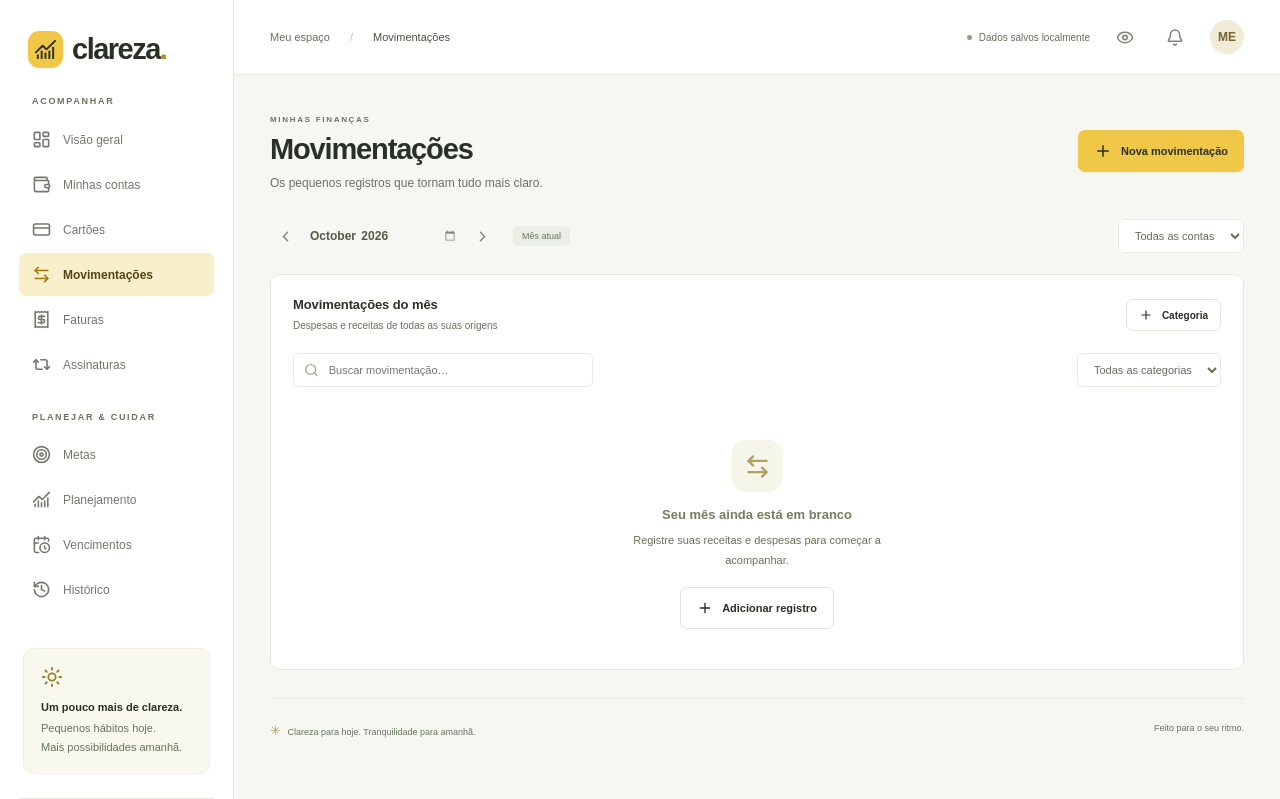
Test case: Fluxos principais › seleciona e confirma data no formulário de movimentação sem salvar ou fechar o diálogo
This screenshot has width=1280, height=799.
Check: the heading "Movimentações do mês" is shown, box [293,297,438,312]
Click the button "Nova movimentação": {"x": 1161, "y": 151} [1078,130,1244,172]
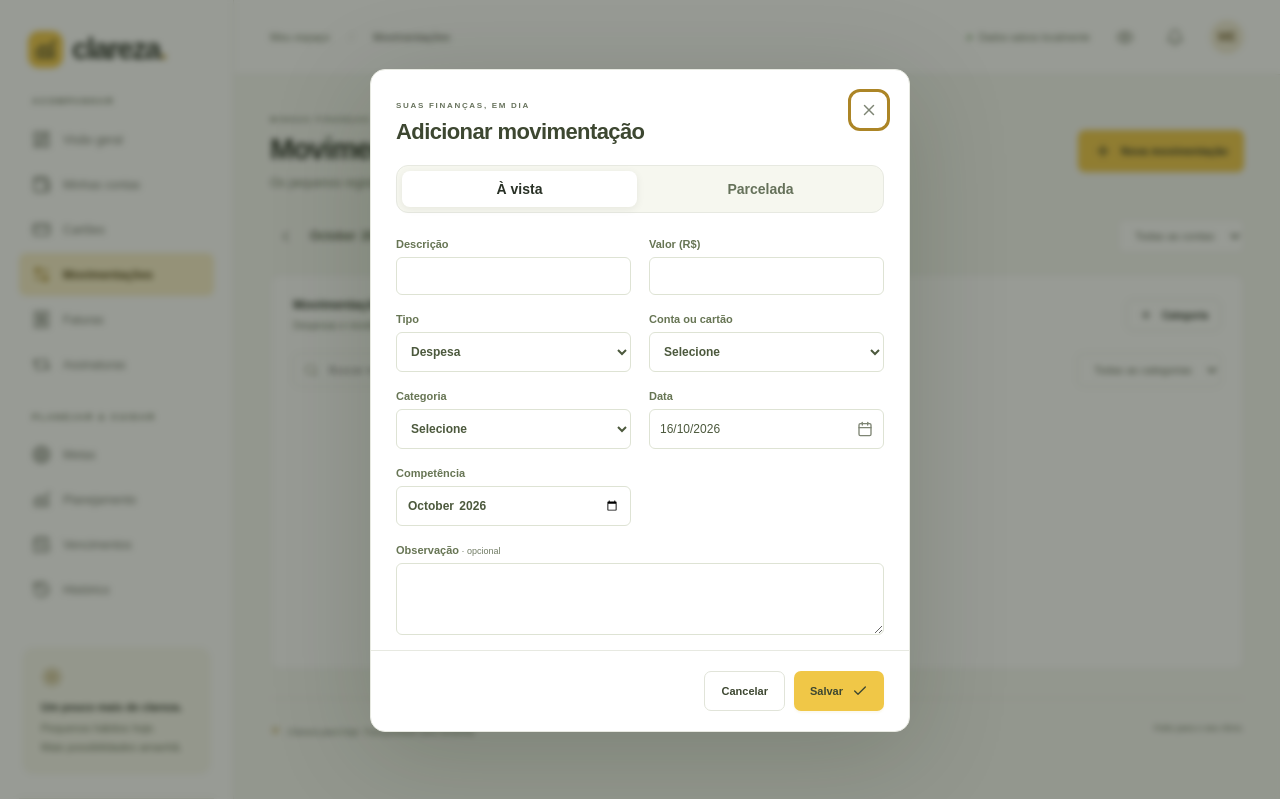
Check: the heading "Adicionar movimentação" is shown, box [396,118,644,144]
Click the button named "Data:": {"x": 766, "y": 428} [649,408,884,448]
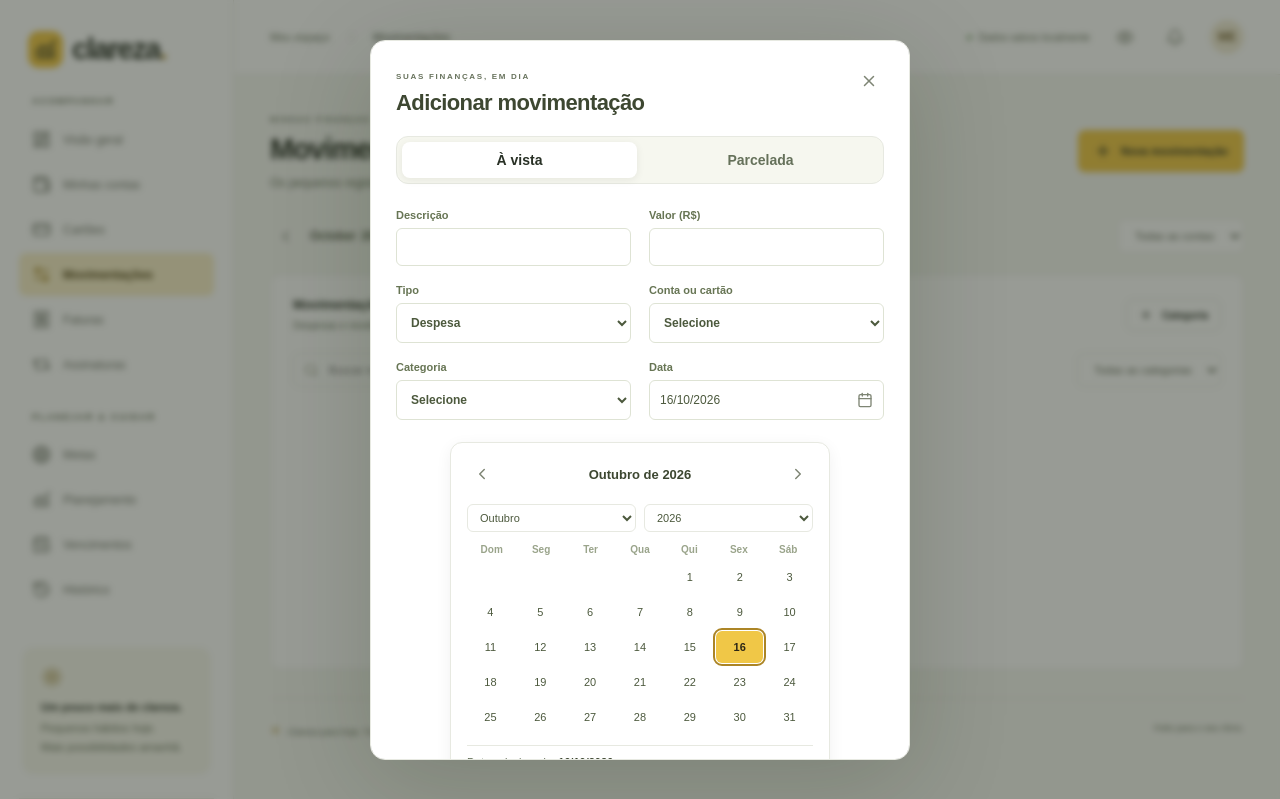
Check: the element named "Calendário: Data" is shown, box [450,442,830,760]
Check: the cell "10" is shown
Click the cell "10": {"x": 790, "y": 612} [766,596,813,628]
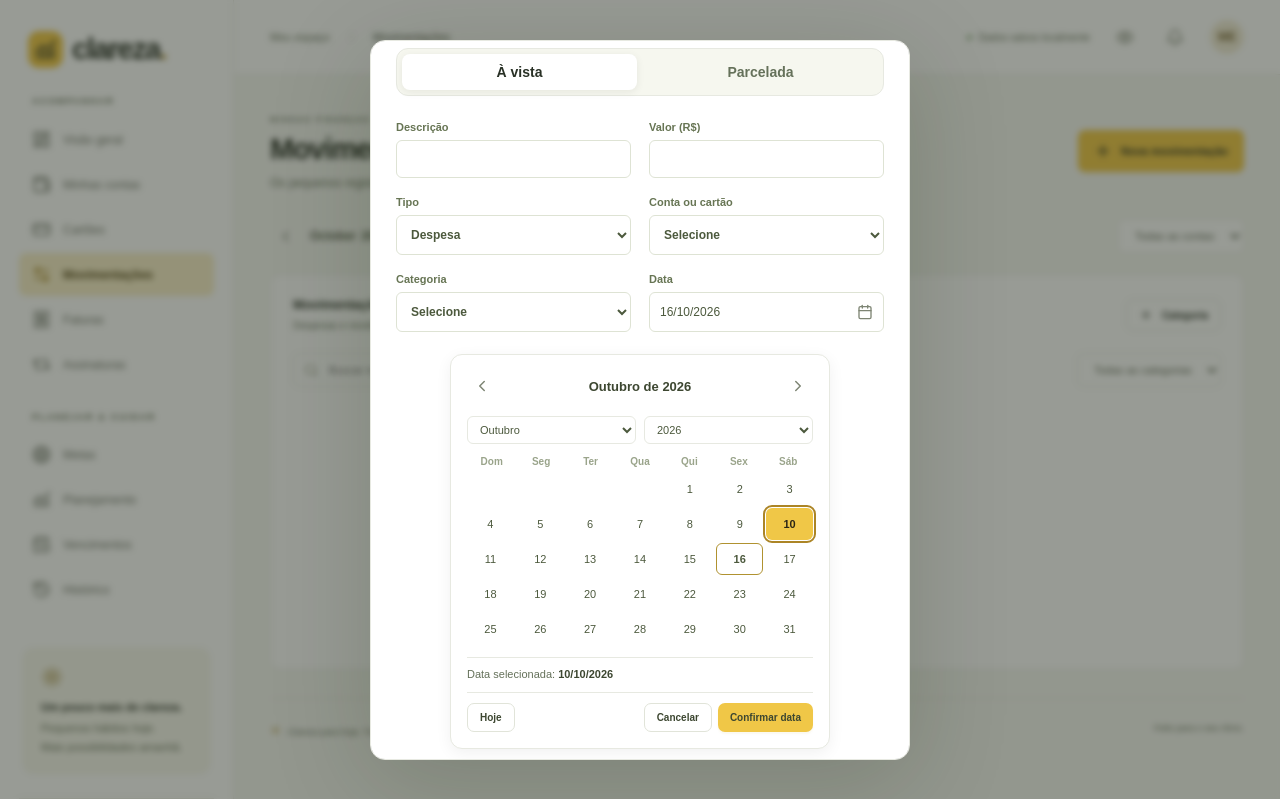
Click the button "Confirmar data": {"x": 765, "y": 718} [718,703,813,732]
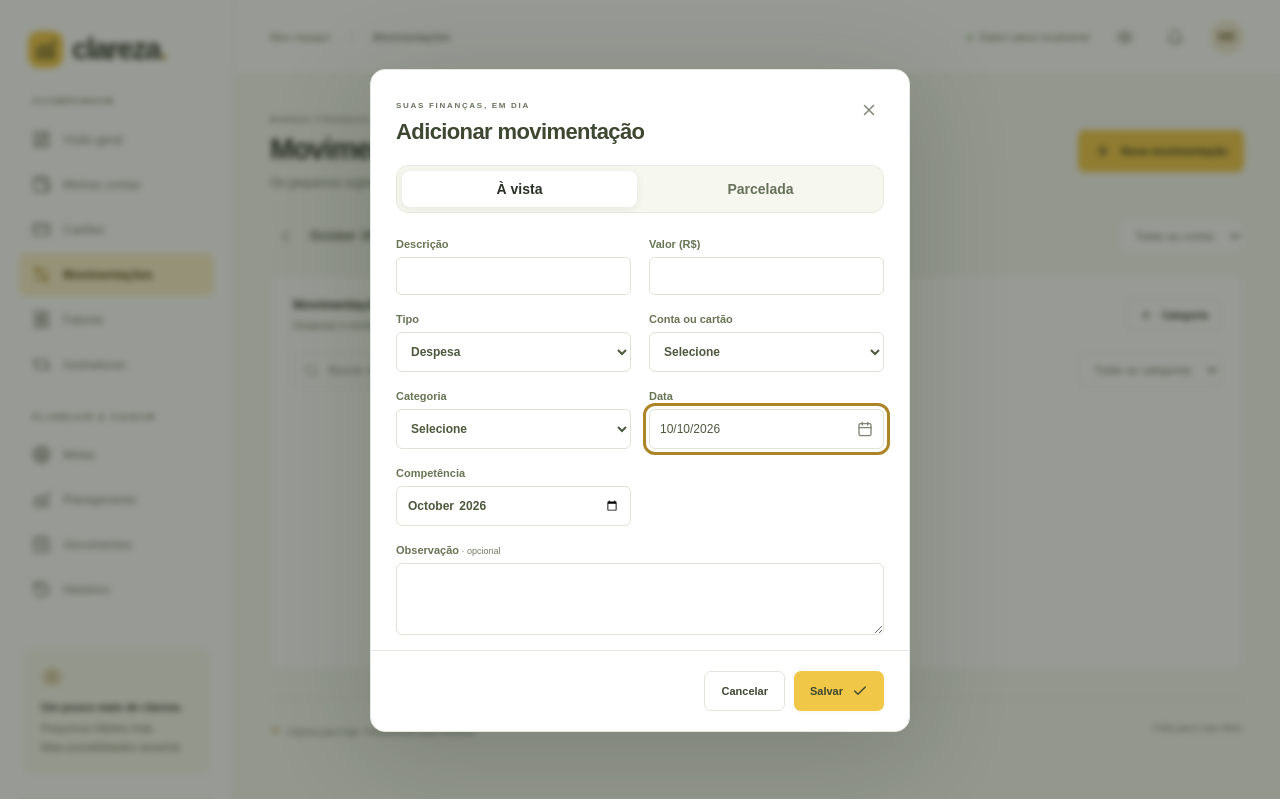
Check: the heading "Adicionar movimentação" is shown, box [396,118,644,144]
Check: the button named "Data:" reads "10/10/2026", box [649,408,884,448]
